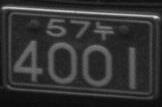0: (81, 43, 112, 88), (46, 41, 77, 84)
1: (119, 46, 145, 90)
4: (12, 39, 42, 81)
5: (45, 17, 66, 37)
7: (69, 18, 91, 39)
누: (93, 20, 114, 40)
